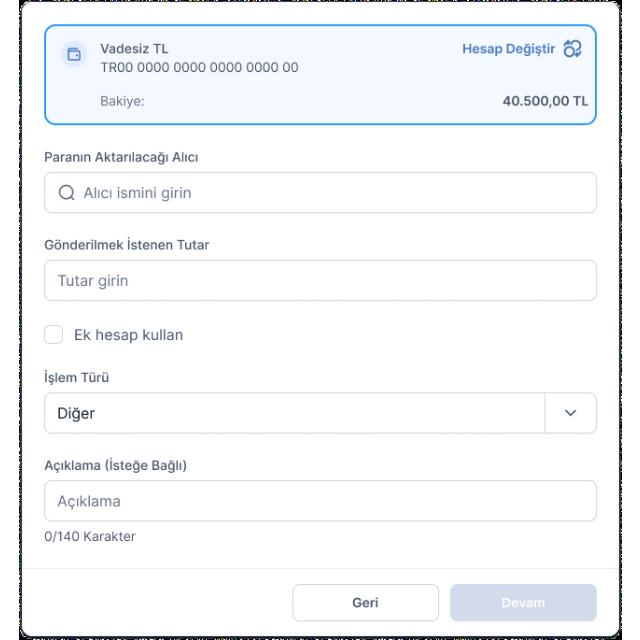QLabel: (36, 454, 190, 478), (39, 148, 200, 168), (98, 60, 298, 76), (40, 237, 212, 253), (494, 90, 590, 112), (71, 326, 183, 344), (458, 40, 556, 59), (40, 366, 112, 386), (95, 42, 171, 56), (95, 93, 148, 109), (498, 594, 550, 610), (348, 593, 380, 611)
VBtn: (293, 582, 439, 622), (449, 582, 595, 622)
VCard: (19, 1, 622, 640), (44, 24, 596, 126)
VCheckbox: (43, 324, 63, 346)
VCombobox: (43, 392, 597, 434)
VDivider: (20, 565, 616, 573)
VIcon: (56, 42, 88, 68), (560, 38, 584, 60)
VTextField: (42, 480, 598, 542), (44, 171, 596, 213), (44, 260, 596, 302)
